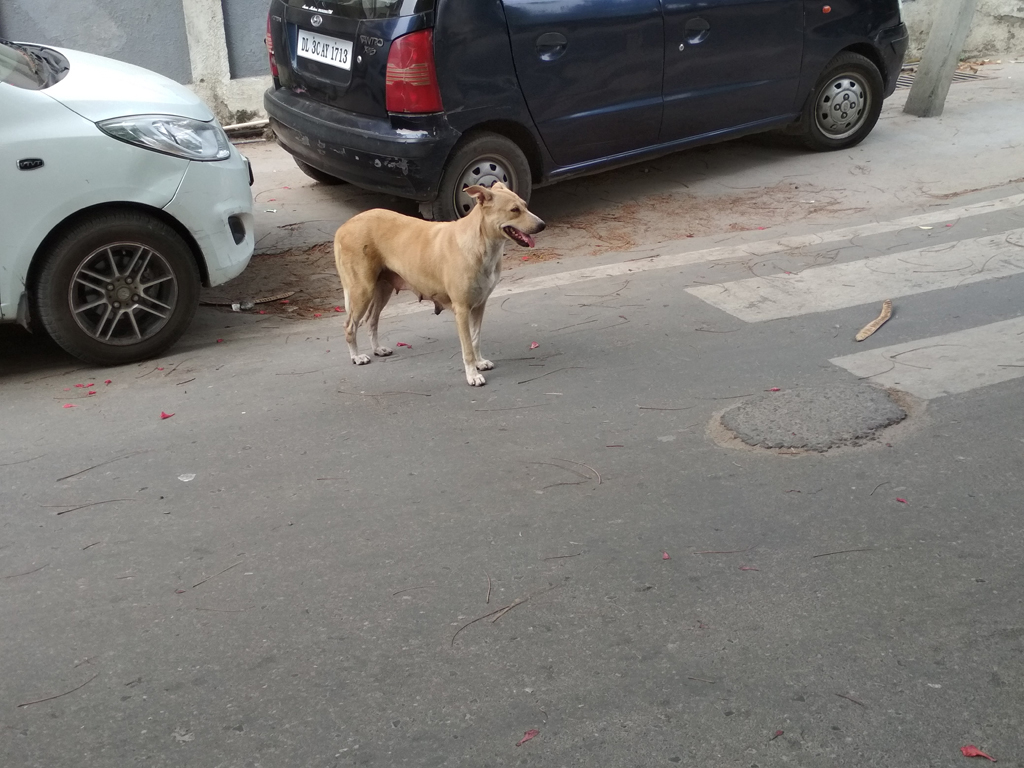dog: (333, 181, 546, 388)
